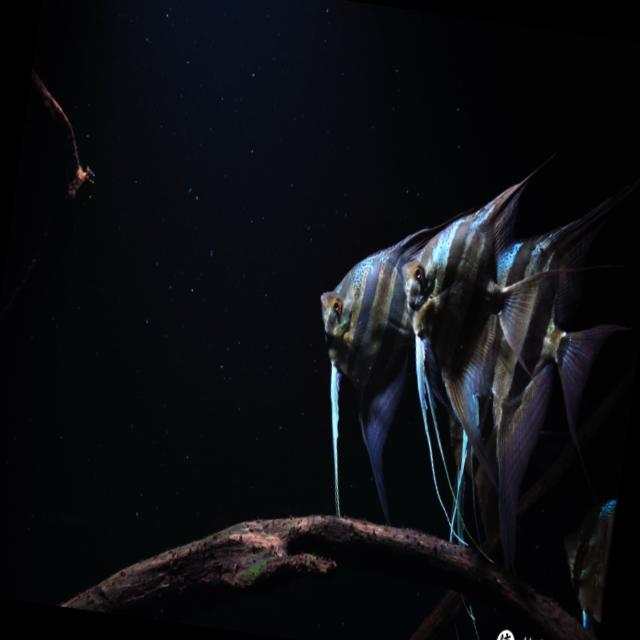AngelFish: (475, 167, 637, 591), (374, 142, 540, 487), (294, 232, 432, 522)
